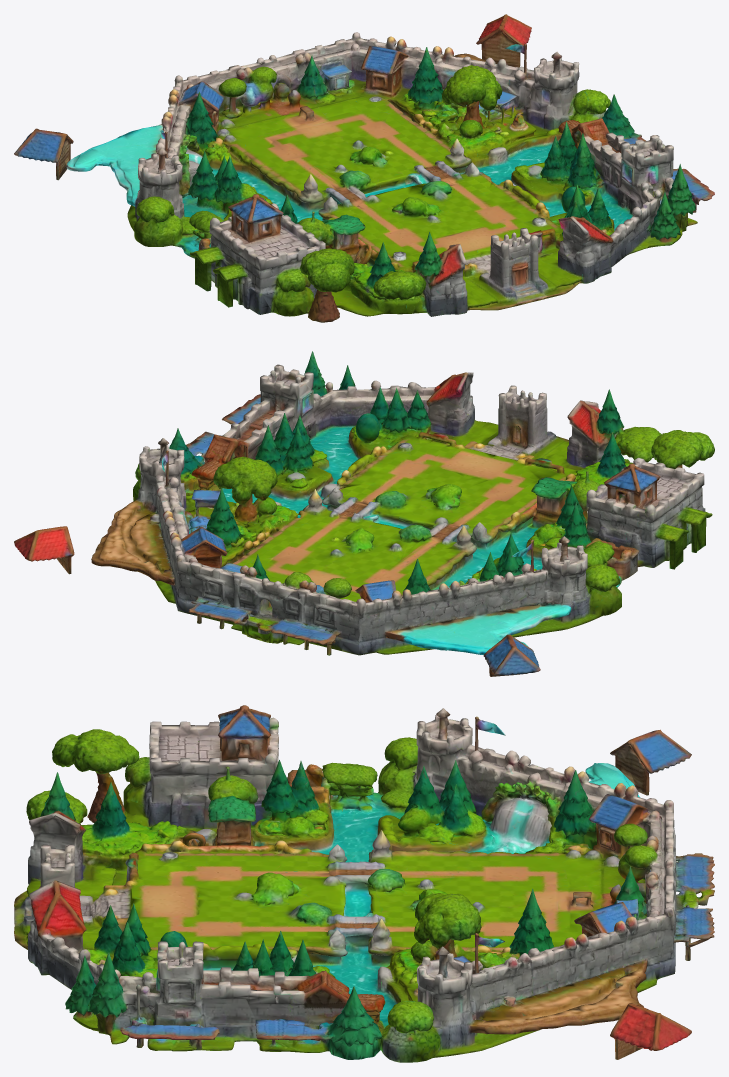
The model's file is Arena.glb.
3 views of the same model, one above another, from view 1: azimuth 30°, elevation 25°; view 2: azimuth 150°, elevation 25°; view 3: azimuth 270°, elevation 25° (orthographic). The views are drawn at different scales.
Bounding box in the file's own units: 1.9 × 0.2992 × 1.8.
1 material, 1 textured.
